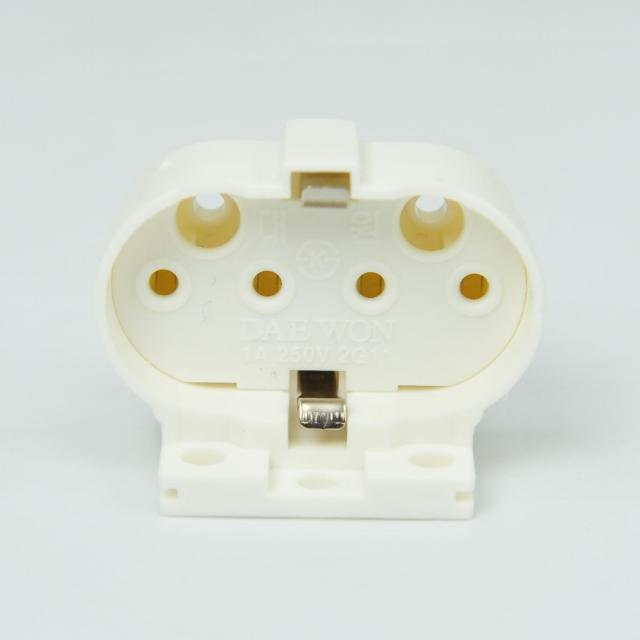typeb: (64, 117, 564, 537)
